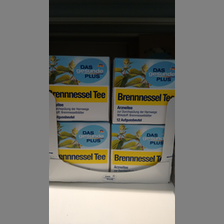tea: (111, 57, 175, 125), (49, 55, 111, 122), (111, 124, 166, 174), (57, 122, 109, 171)
